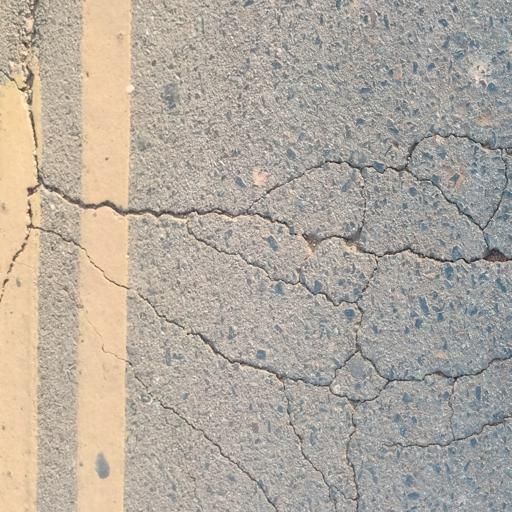GRIETA: (23, 0, 40, 168)
PIEL DE COCODRILO: (0, 121, 511, 511)
